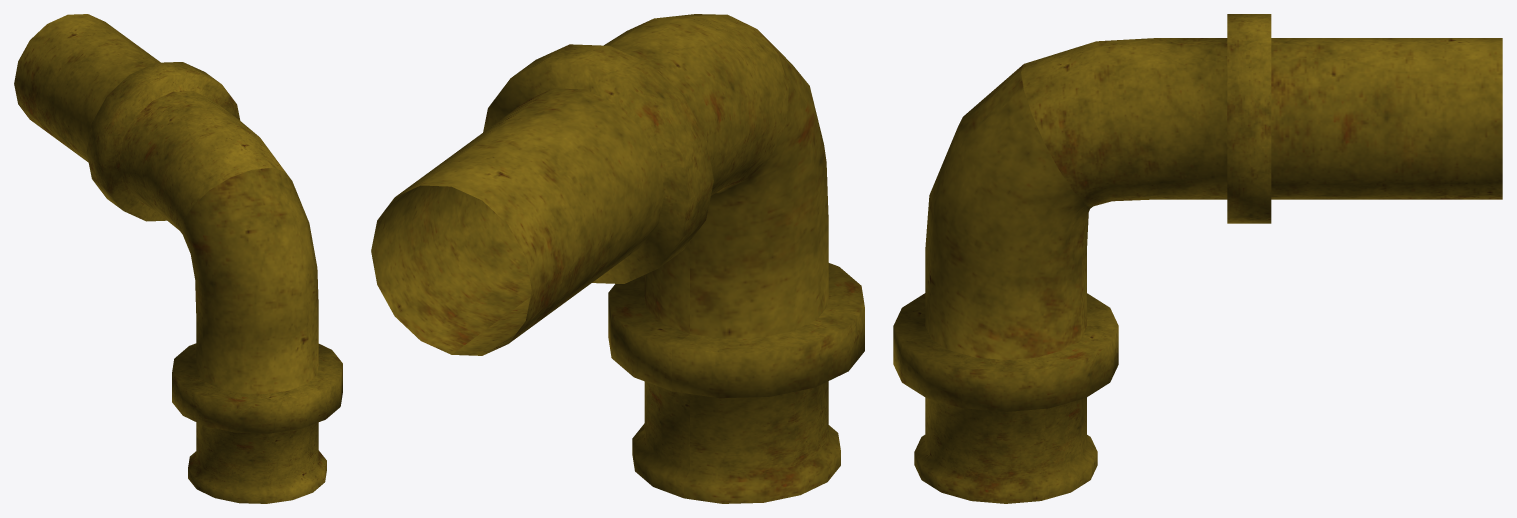
The model's file is yellow_bent_pipe2.fbx.
3 renders of one model, left to right at view 1: azimuth 30°, elevation 25°; view 2: azimuth 150°, elevation 25°; view 3: azimuth 270°, elevation 25°, orthographic. The views are drawn at different scales.
Parts seen in each view (by area): view 1: yellow_bent_pipe2; view 2: yellow_bent_pipe2; view 3: yellow_bent_pipe2.
Part boxes in pixels (x1,y1,x2,y2): yellow_bent_pipe2: [14, 14, 342, 503]; yellow_bent_pipe2: [371, 14, 864, 503]; yellow_bent_pipe2: [893, 14, 1502, 503].
Size of the model in its own units: 36.54 by 78.97 by 98.74.
Materials: 1 (1 with a texture image).
